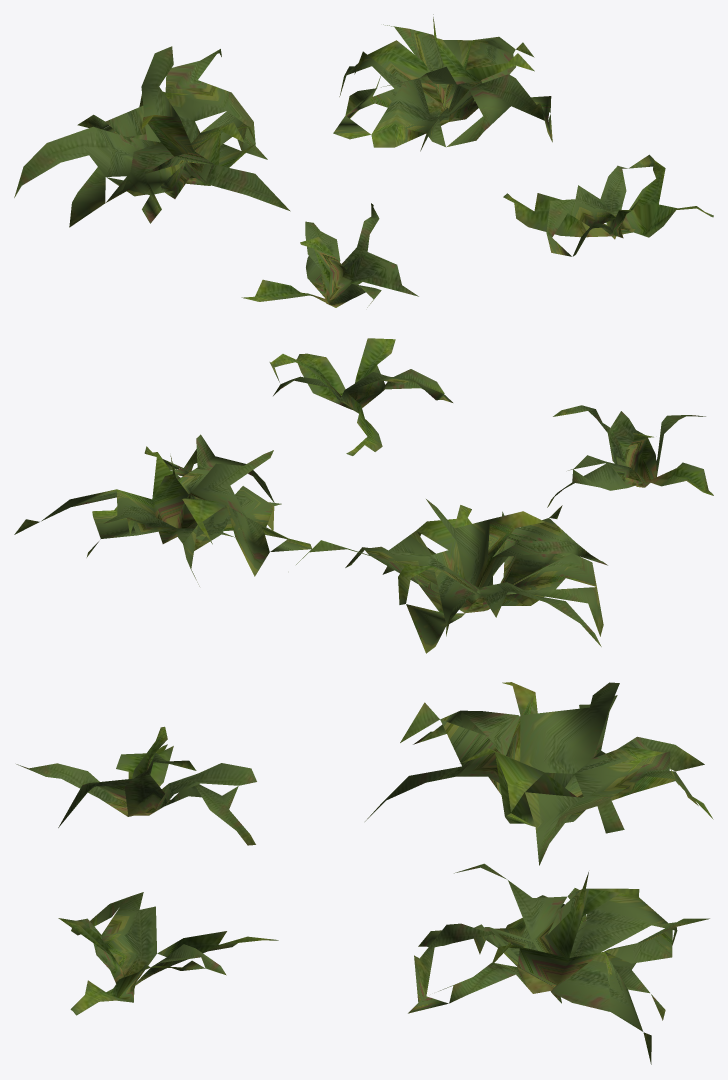
The model's file is fern_02_lo.glb.
3 views of the same model, one above another, from view 1: azimuth 30°, elevation 25°; view 2: azimuth 150°, elevation 25°; view 3: azimuth 270°, elevation 25° (orthographic). The views are drawn at different scales.
Parts seen in each view (by area): view 1: fern_02_b, fern_02_c, fern_02_d, fern_02_a; view 2: fern_02_b, fern_02_c, fern_02_d, fern_02_a; view 3: fern_02_b, fern_02_c, fern_02_a, fern_02_d.
Part boxes in pixels (x1,y1,x2,y2): fern_02_b: [14, 46, 290, 227]; fern_02_c: [333, 14, 552, 151]; fern_02_d: [503, 154, 713, 256]; fern_02_a: [241, 203, 418, 307]; fern_02_b: [296, 499, 607, 653]; fern_02_c: [14, 434, 311, 586]; fern_02_d: [269, 338, 452, 455]; fern_02_a: [547, 405, 713, 507]; fern_02_b: [365, 682, 713, 865]; fern_02_c: [408, 863, 709, 1064]; fern_02_a: [16, 726, 256, 845]; fern_02_d: [58, 892, 278, 1015].
Bounding box in the file's own units: 1.93 × 0.422 × 1.69.
Materials: 1 (1 with a texture image).
